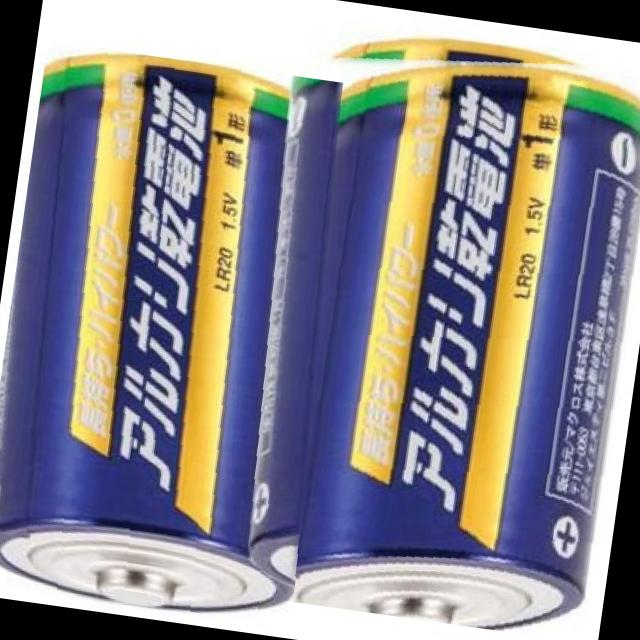Hazard: (226, 14, 640, 640), (0, 40, 366, 631)
